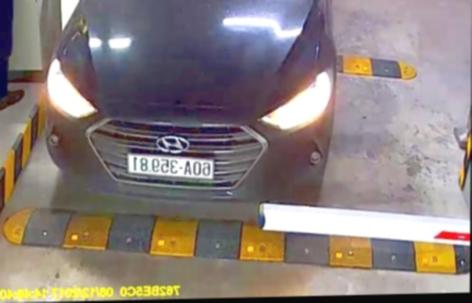License_Plate: (121, 151, 218, 184)
